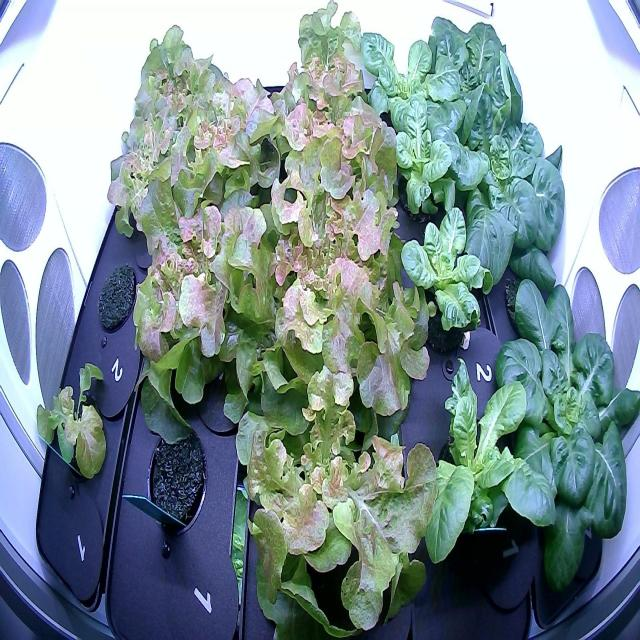pod: (138, 417, 212, 544), (88, 249, 143, 346)
young: (479, 267, 640, 630), (406, 349, 536, 590), (438, 89, 573, 293), (391, 190, 497, 368), (408, 6, 528, 155), (352, 5, 462, 150), (378, 92, 466, 228)
